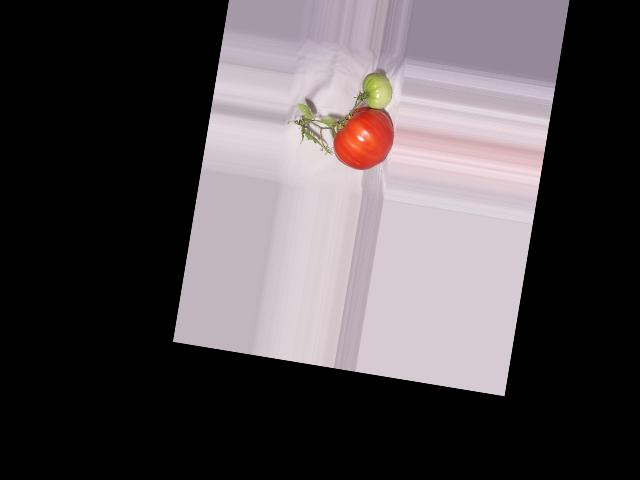tomato: (329, 101, 397, 174)
